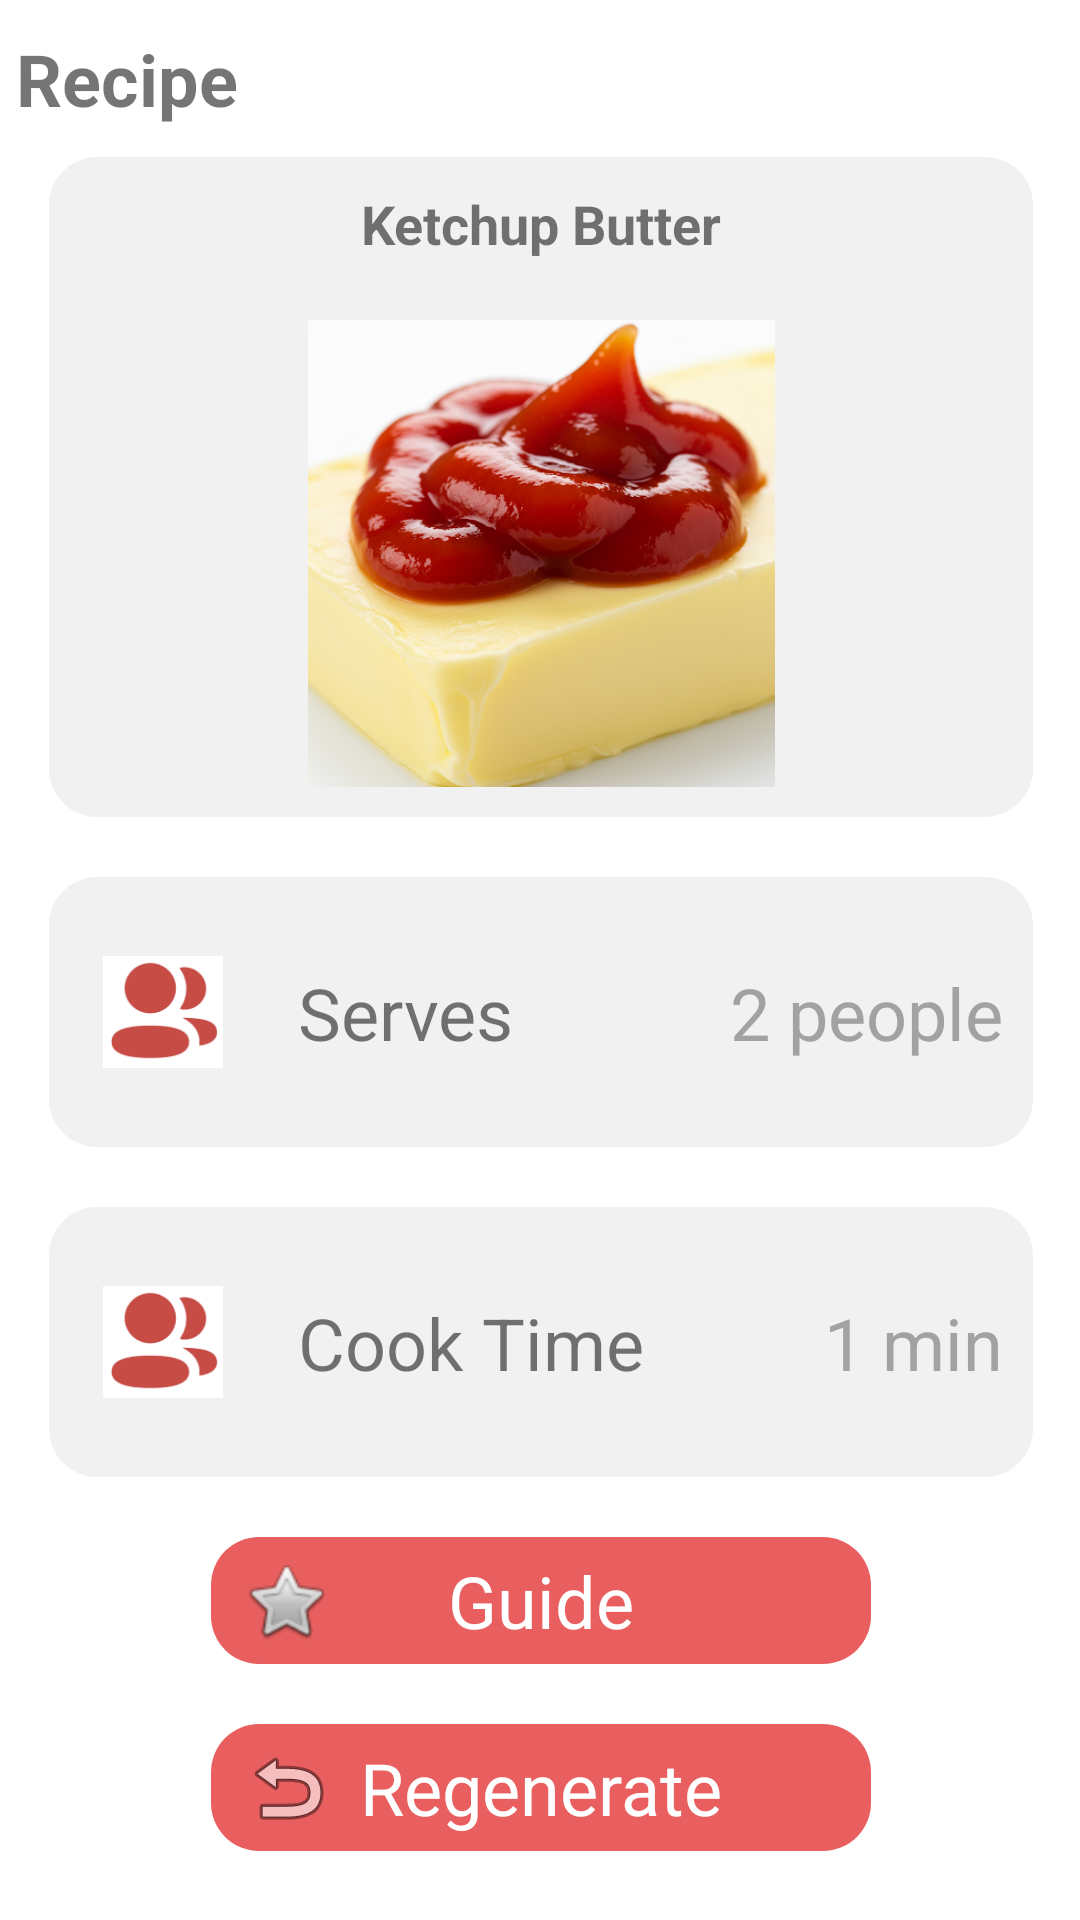

Named icons in this screenshot (1080w x 1920h) and their centers, point (x, y):
revert: point (289, 1788)
star: point (286, 1601)
